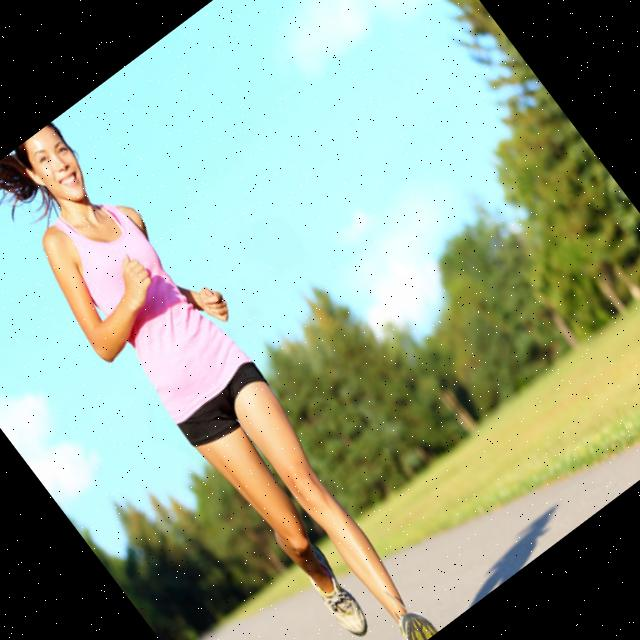Person: (0, 102, 462, 640)
